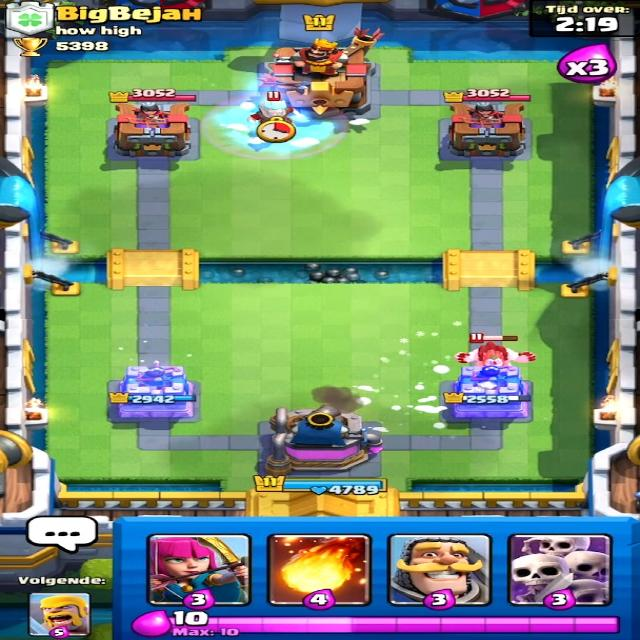Enemy_Ice_Golem_Troop: (448, 338, 548, 371)
Fireball_Card: (259, 536, 366, 606)
